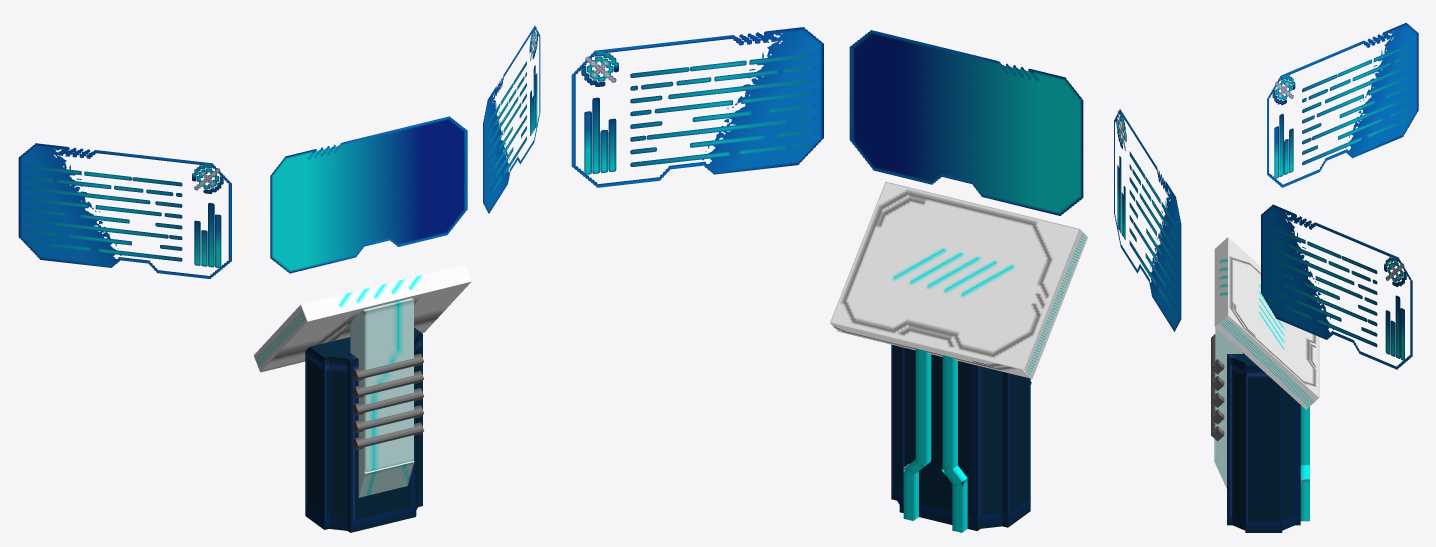
The model's file is Hyperdimensional Controller.obj.
3 views of the same model, side by side, from view 1: azimuth 30°, elevation 25°; view 2: azimuth 150°, elevation 25°; view 3: azimuth 270°, elevation 25° (orthographic). The views are drawn at different scales.
Parts seen in each view (by area): view 1: cubeholoscreen, cube; view 2: cubeholoscreen, cube, cubefrontline; view 3: cube, cubeholoscreen, cubefrontline.
Part boxes in pixels (box(x1,y1,x2,y2)): cubeholoscreen: box(18, 26, 540, 278); cube: box(253, 264, 471, 532); cubeholoscreen: box(571, 27, 1181, 331); cube: box(830, 181, 1087, 530); cubefrontline: box(903, 348, 967, 532); cube: box(1211, 237, 1319, 532); cubeholoscreen: box(1261, 22, 1418, 369); cubefrontline: box(1300, 405, 1309, 521).
Size of the model in its own units: 3.97 by 2.81 by 1.43.
